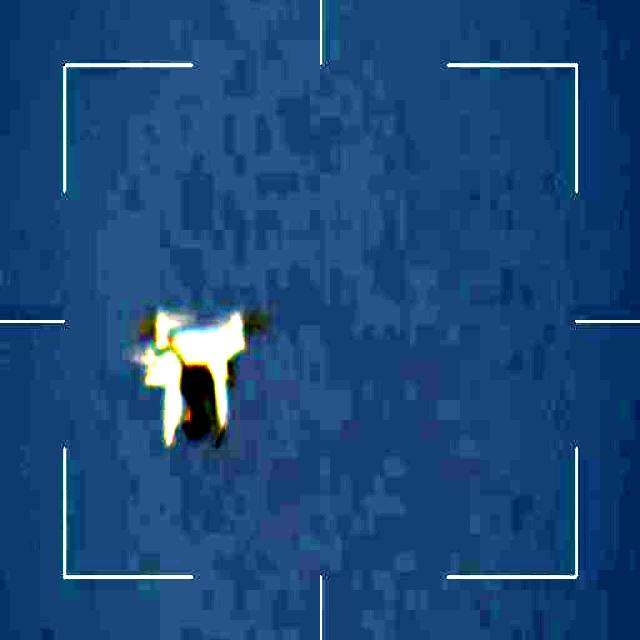bird: (135, 312, 264, 452)
